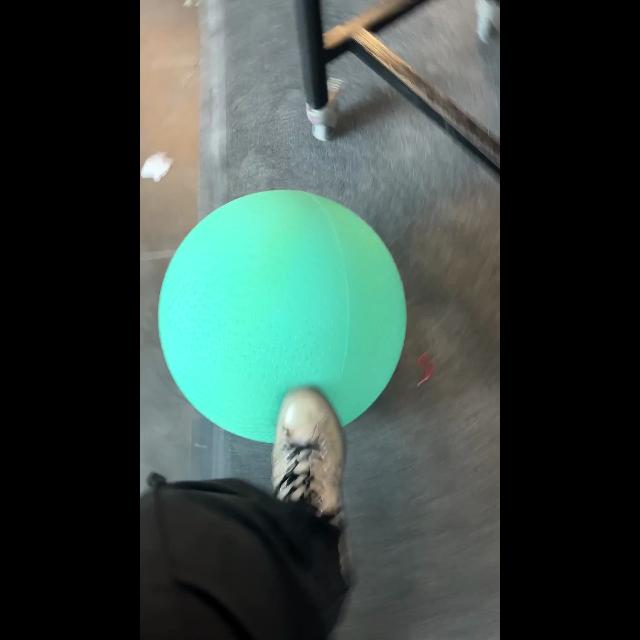ALGAE: (157, 188, 407, 444)
